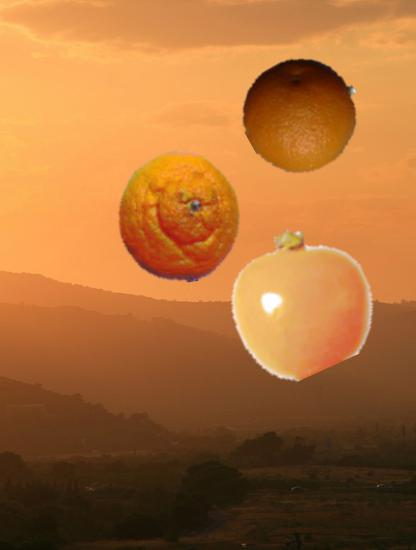Mandarine: (113, 151, 245, 283)
Orange: (243, 56, 361, 174)
Physalis: (229, 229, 373, 373)
